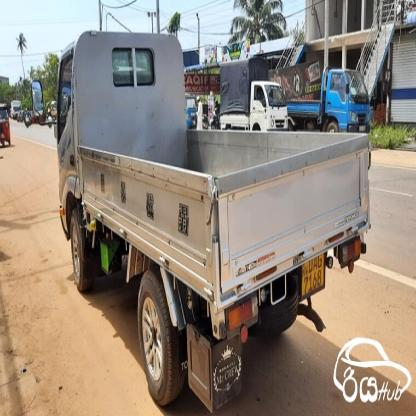Lorry back: (55, 32, 372, 416)
number plate: (300, 253, 325, 293)
